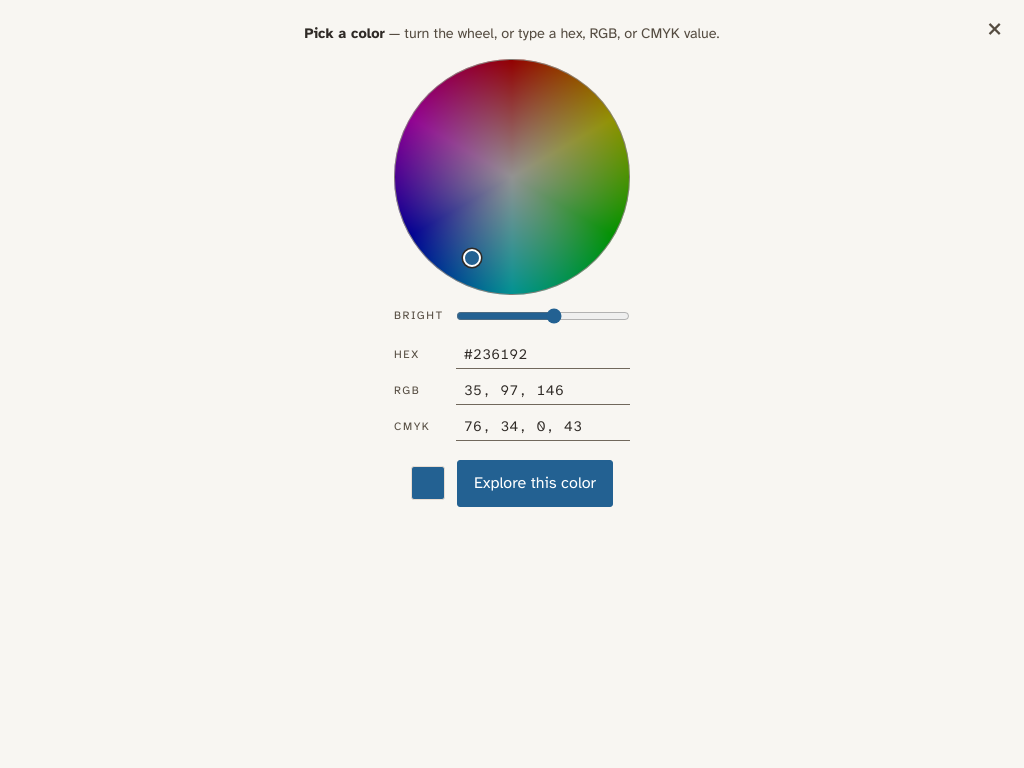
ColorPicker (jsdom) › drives the color from the brightness slider
Set the slider named "Brightness" to "100": (622, 316) x1=456 y1=308 x2=630 y2=324
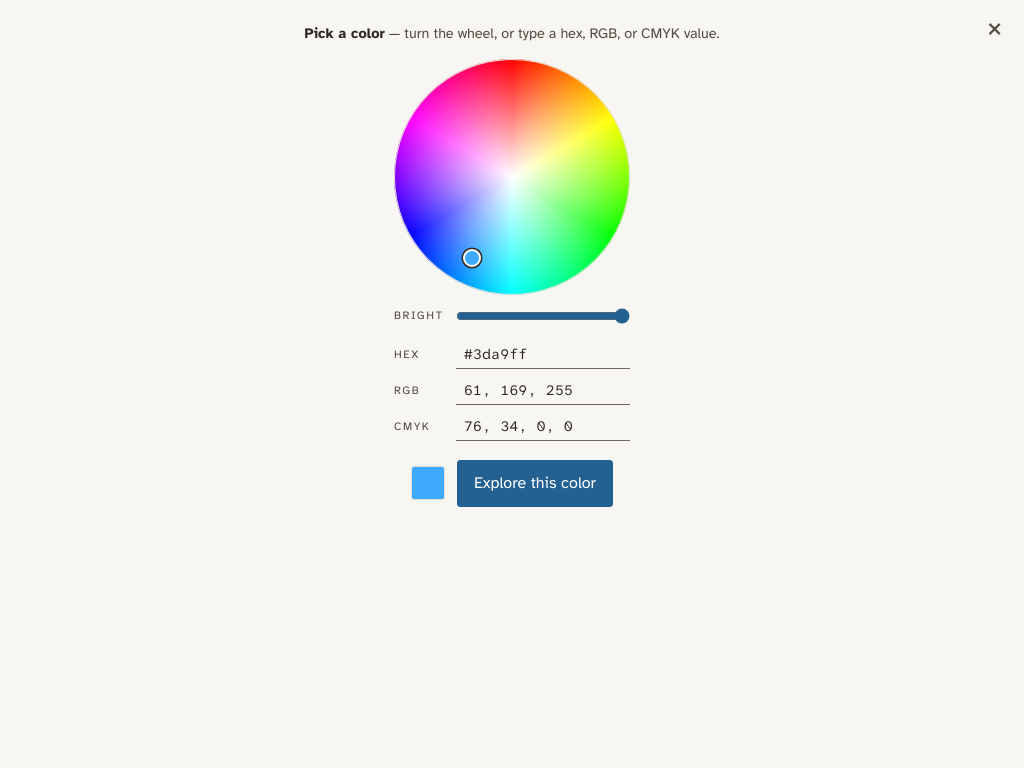
Expected: the field labelled "RGB" holds "61, 169, 255", x1=456 y1=377 x2=630 y2=405
